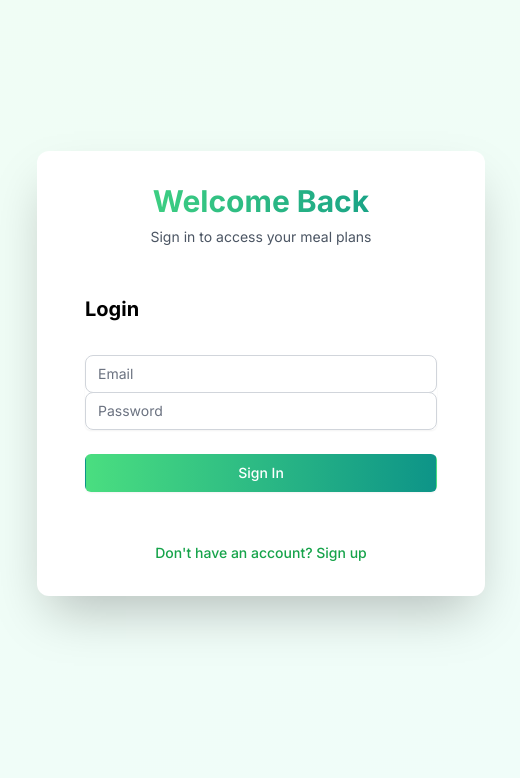
Test case: Auth Component › creates login view by default and toggles to signup
The image size is (520, 778).
Expected: the heading "Welcome Back" is shown, [69,182,453,218]
Click the button "Don't have an account? Sign up".
click(261, 552)  # box [155,542,367,562]
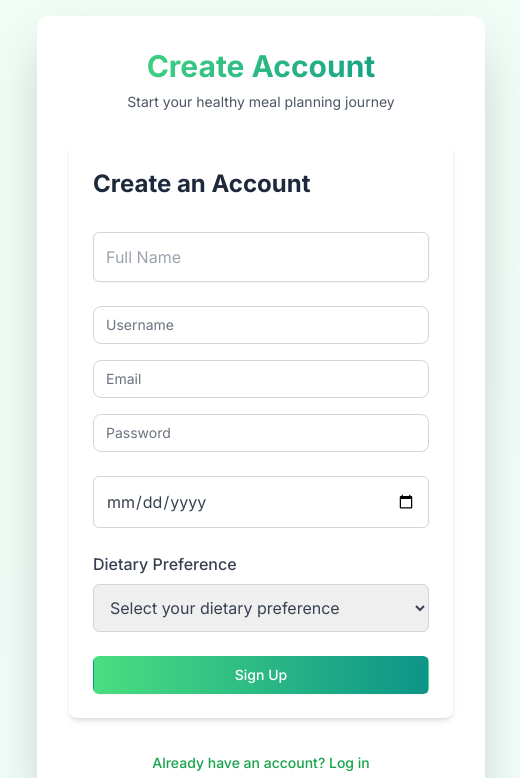
Expected: the heading "Create Account" is shown, [69,48,453,84]
